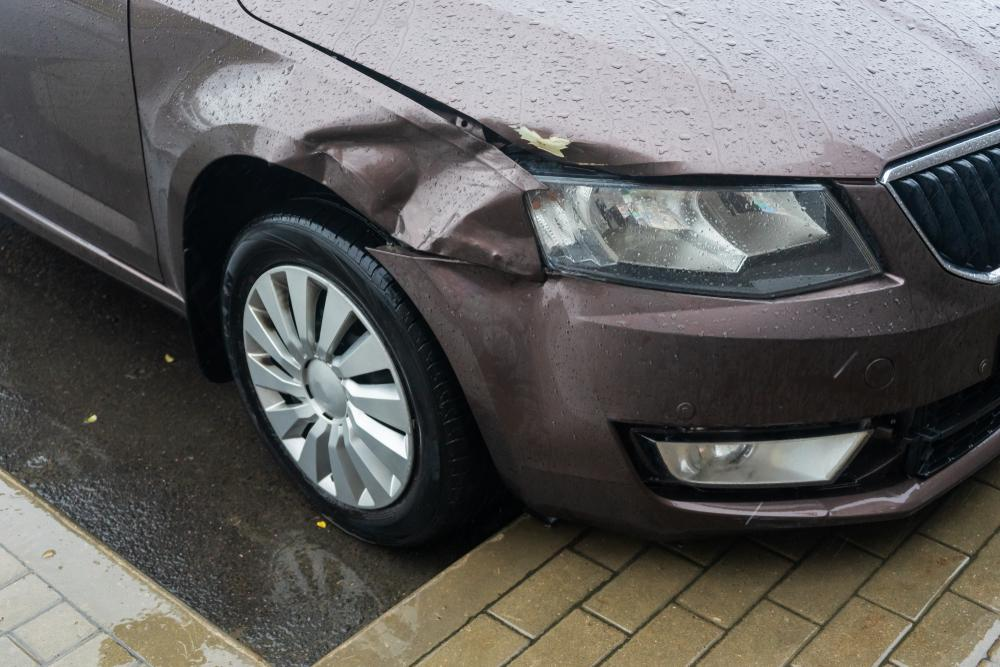dent: (278, 119, 544, 280), (483, 118, 659, 172)
